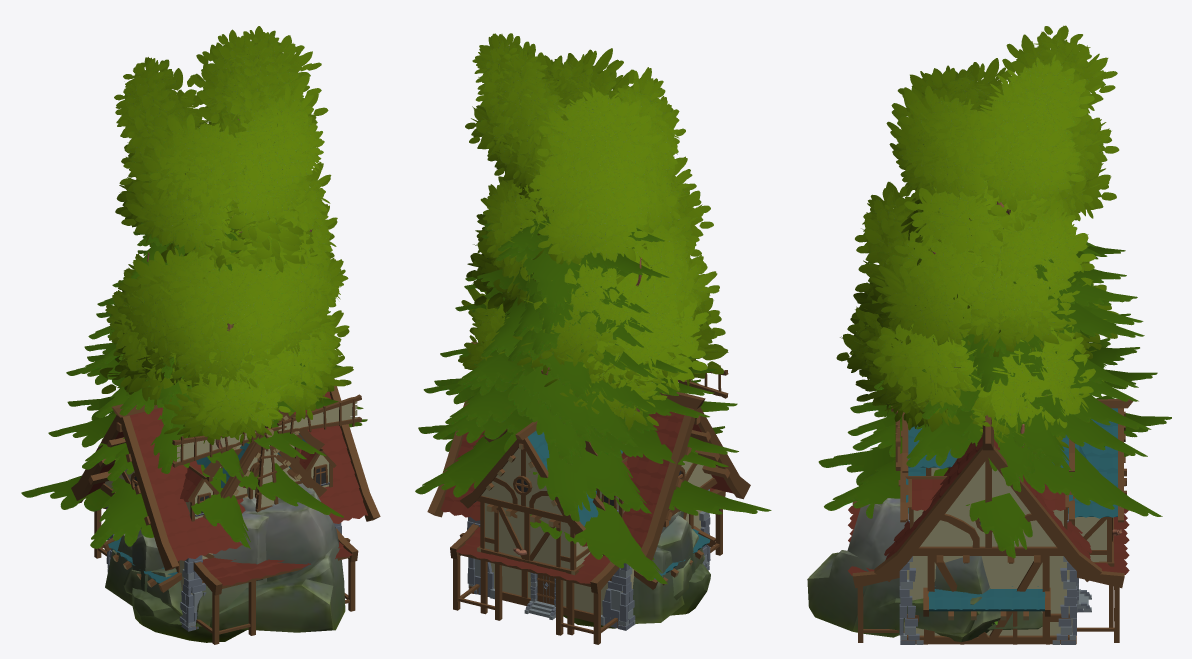
The model's file is scenery.glb.
3 renders of one model, left to right at view 1: azimuth 30°, elevation 25°; view 2: azimuth 150°, elevation 25°; view 3: azimuth 270°, elevation 25°, orthographic. The views are drawn at different scales.
Parts seen in each view (by area): view 1: CommonTree_3, Inn_Cube.393, CommonTree_4, CommonTree_1, Rock_Medium_3, CommonTree_2, Pine_2, Pine_1, Mill_Blades_Cube.007, Rock_Medium_1, Mill_Cube.128, Pine_3 (+3 smaller); view 2: CommonTree_3, Inn_Cube.393, Pine_2, CommonTree_4, CommonTree_1, Pine_1, CommonTree_2, House_2_Cylinder.021, Pine_3, Rock_Medium_2, Rock_Medium_3, Mill_Cube.128 (+1 smaller); view 3: CommonTree_4, Inn_Cube.393, CommonTree_2, CommonTree_3, Pine_2, CommonTree_1, Rock_Medium_3, Pine_1, House_2_Cylinder.021, Mill_Cube.128, Pine_3, Rock_Medium_1 (+1 smaller).
Part boxes in pixels (x1=…): CommonTree_3: x1=114, y1=29, x2=348, y2=394; Inn_Cube.393: x1=71, y1=378, x2=380, y2=644; CommonTree_4: x1=121, y1=26, x2=331, y2=261; CommonTree_1: x1=99, y1=214, x2=353, y2=445; Rock_Medium_3: x1=132, y1=483, x2=345, y2=642; CommonTree_2: x1=105, y1=168, x2=349, y2=448; Pine_2: x1=21, y1=231, x2=367, y2=548; Pine_1: x1=48, y1=217, x2=342, y2=482; Mill_Blades_Cube.007: x1=172, y1=394, x2=361, y2=512; Rock_Medium_1: x1=123, y1=497, x2=268, y2=626; Mill_Cube.128: x1=103, y1=410, x2=350, y2=592; Pine_3: x1=66, y1=222, x2=322, y2=415; CommonTree_3: x1=480, y1=41, x2=713, y2=396; Inn_Cube.393: x1=427, y1=341, x2=750, y2=644; Pine_2: x1=415, y1=234, x2=771, y2=584; CommonTree_4: x1=465, y1=33, x2=685, y2=286; CommonTree_1: x1=472, y1=179, x2=728, y2=430; Pine_1: x1=433, y1=216, x2=738, y2=555; CommonTree_2: x1=458, y1=180, x2=725, y2=416; House_2_Cylinder.021: x1=460, y1=421, x2=598, y2=635; Pine_3: x1=451, y1=198, x2=714, y2=447; Rock_Medium_2: x1=632, y1=511, x2=684, y2=623; Rock_Medium_3: x1=657, y1=515, x2=710, y2=615; Mill_Cube.128: x1=459, y1=367, x2=715, y2=589; CommonTree_4: x1=886, y1=25, x2=1119, y2=255; Inn_Cube.393: x1=848, y1=415, x2=1129, y2=644; CommonTree_2: x1=836, y1=172, x2=1104, y2=447; CommonTree_3: x1=851, y1=41, x2=1116, y2=449; Pine_2: x1=818, y1=247, x2=1171, y2=558; CommonTree_1: x1=847, y1=191, x2=1118, y2=448; Rock_Medium_3: x1=807, y1=498, x2=989, y2=637; Pine_1: x1=850, y1=242, x2=1157, y2=535; House_2_Cylinder.021: x1=898, y1=399, x2=1133, y2=627; Mill_Cube.128: x1=901, y1=412, x2=1074, y2=644; Pine_3: x1=874, y1=245, x2=1144, y2=401; Rock_Medium_1: x1=935, y1=587, x2=1000, y2=642.
Bounding box in the file's own units: 5.73 × 9.51 × 5.28.
Materials: 26 (10 with a texture image).
